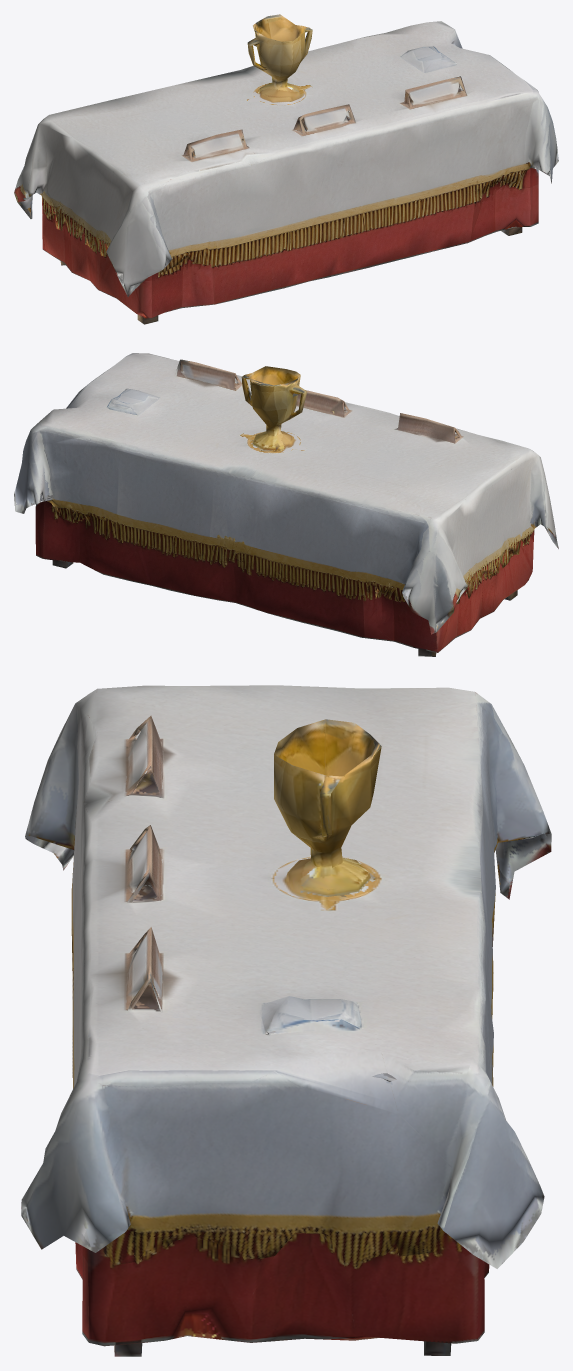
File: P_ShowJudgeTable_h80.fbx
3 views of the same model, one above another, from view 1: azimuth 30°, elevation 25°; view 2: azimuth 150°, elevation 25°; view 3: azimuth 270°, elevation 25° (orthographic). The views are drawn at different scales.
Parts seen in each view (by area): view 1: texture_mapping; view 2: texture_mapping; view 3: texture_mapping.
Part boxes in pixels (bbox=[...]): texture_mapping: bbox=[14, 14, 558, 324]; texture_mapping: bbox=[14, 353, 558, 656]; texture_mapping: bbox=[21, 685, 551, 1356].
Bounding box in the file's own units: 1 × 0.5158 × 0.4617.
Materials: 1 (1 with a texture image).
